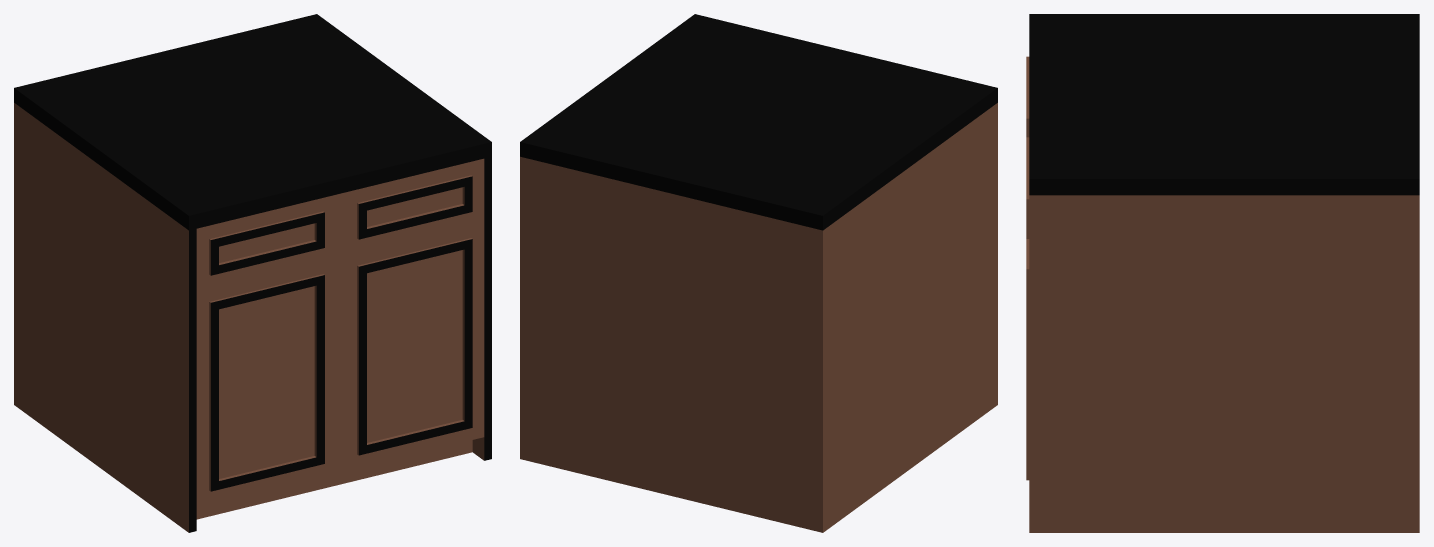
The model's file is Metal_Counter.fbx.
3 views of the same model, side by side, from view 1: azimuth 30°, elevation 25°; view 2: azimuth 150°, elevation 25°; view 3: azimuth 270°, elevation 25° (orthographic). The views are drawn at different scales.
Parts seen in each view (by area): view 1: Metal_Counter; view 2: Metal_Counter; view 3: Metal_Counter.
Boxes of the visible parts, x1,y1,x2,y2 form: Metal_Counter: [14, 14, 491, 532]; Metal_Counter: [520, 14, 997, 532]; Metal_Counter: [1026, 14, 1419, 532].
Bounding box in the file's own units: 1 × 1 × 1.01.
